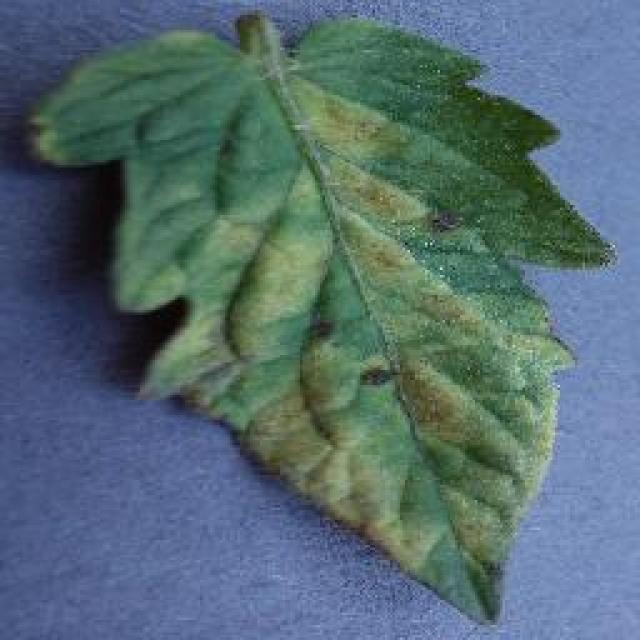leaf mold: (29, 5, 622, 634)
